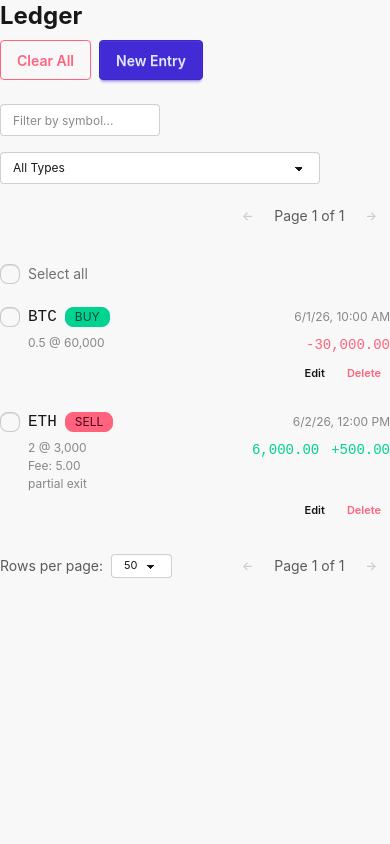
Test: LedgerPage — modal interactions › clicking Edit opens the edit modal
Click the button "Edit" below "-30,000.00": (315, 373) [296,361,334,385]
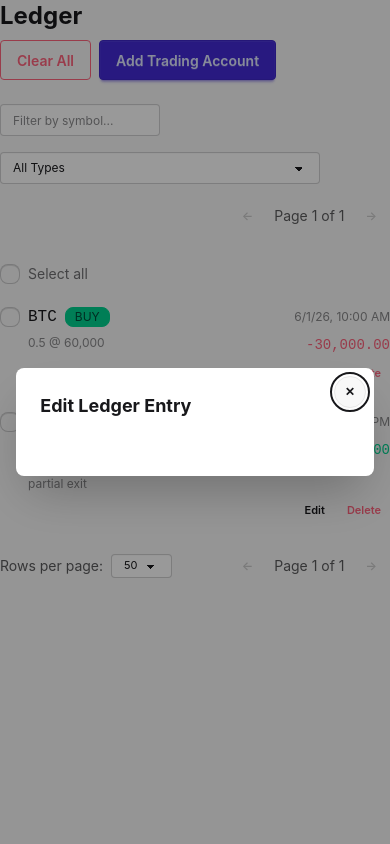
expect the heading "Edit Ledger Entry" is shown: met, box [40,395,191,416]
